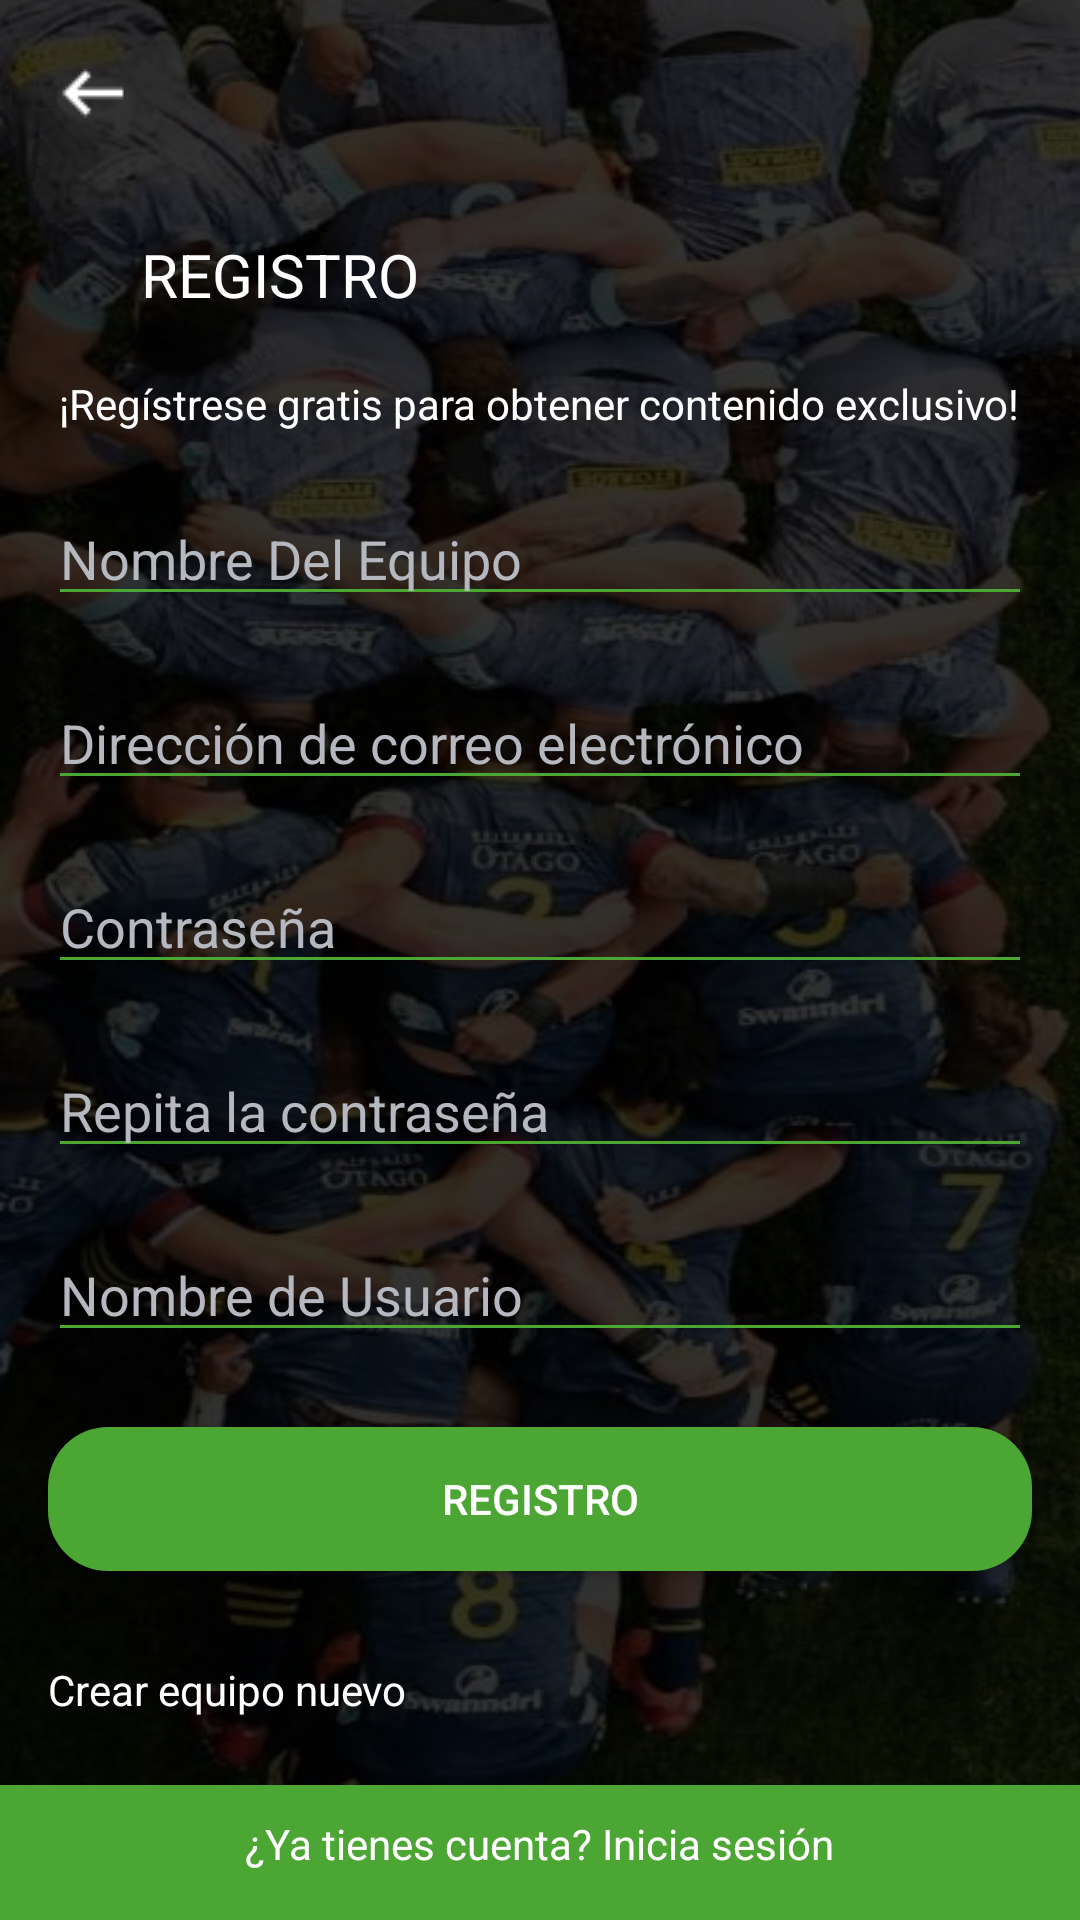

Icons on this 1080×1920 Android screen, each with its box as [x1, y1, x2, y2]:
short left: [62, 69, 124, 117]
